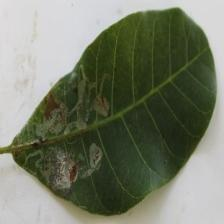leaf miner: (0, 6, 218, 216)
